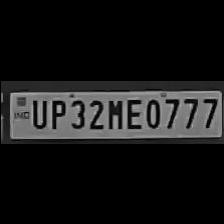0: (142, 95, 162, 127)
2: (84, 95, 104, 129)
3: (65, 95, 84, 129)
7: (198, 94, 218, 128), (162, 96, 180, 128), (180, 96, 198, 128)
E: (122, 95, 142, 129)
M: (104, 95, 122, 129)
P: (45, 96, 65, 130)
U: (28, 96, 46, 128)
